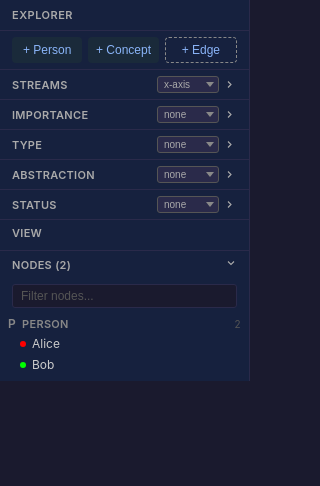
Test case: Sidebar › renders only template-defined attribute filters
Click the text "Importance".
click(50, 114)  # box [12,108,88,122]
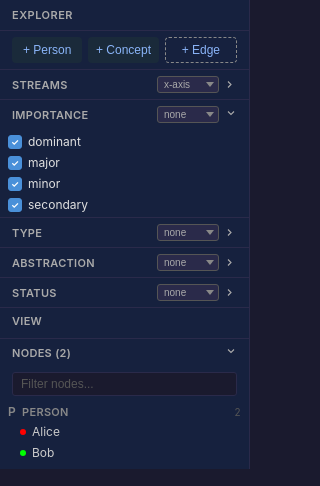
Check: the text "major" is shown, box [28,155,60,170]
Check: the text "minor" is shown, box [28,176,60,191]
